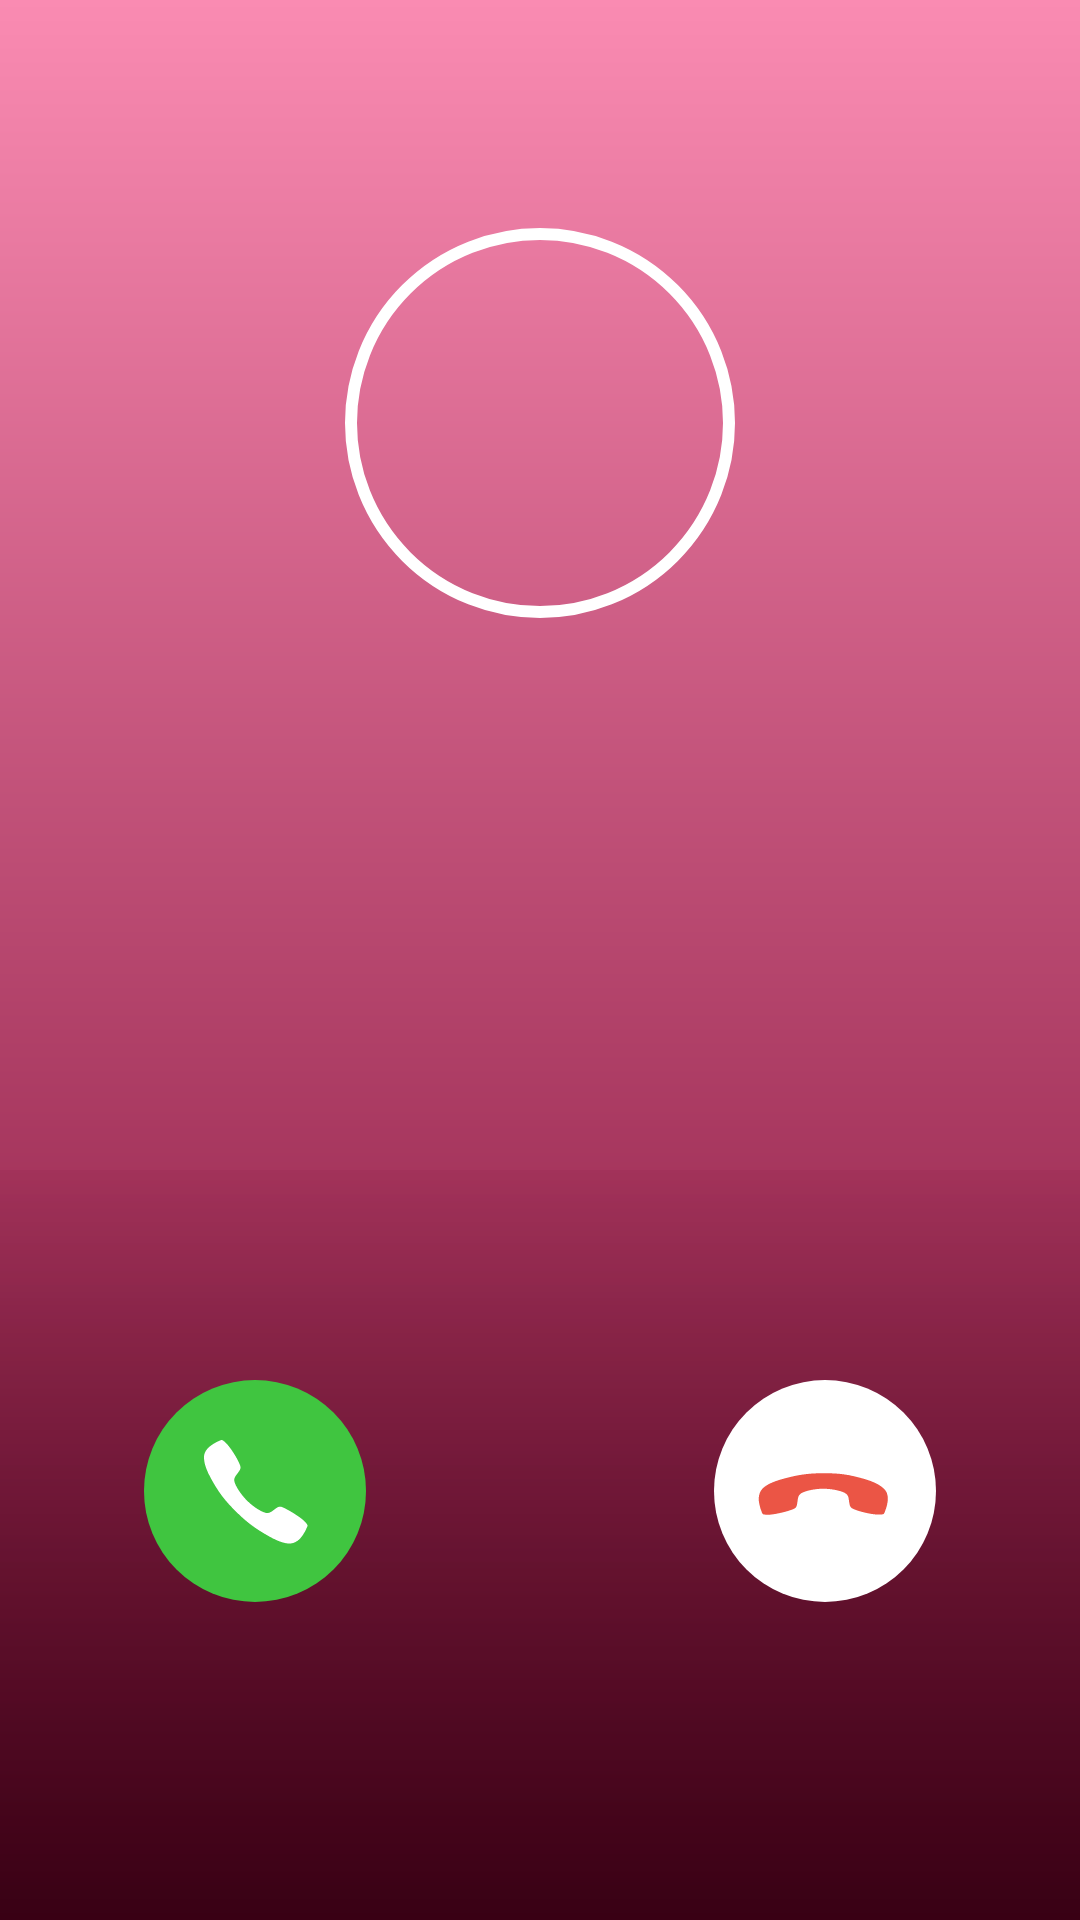

Point at icon controls on the screen. Image size 1080×1920, points as point (x, y).
accept: point (255, 1491)
decline: point (825, 1491)
